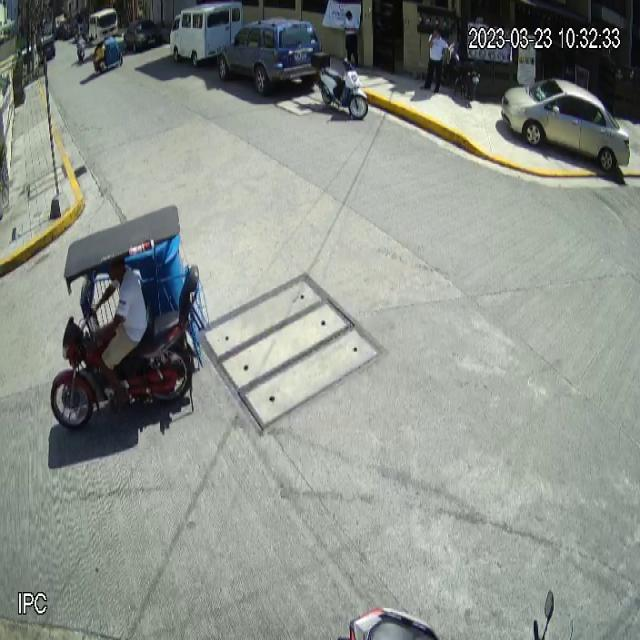Car: (500, 76, 631, 172), (216, 17, 323, 97)
Motorcycle: (310, 50, 369, 122)
Tricycle: (47, 202, 211, 434)
Van: (169, 0, 244, 69)
